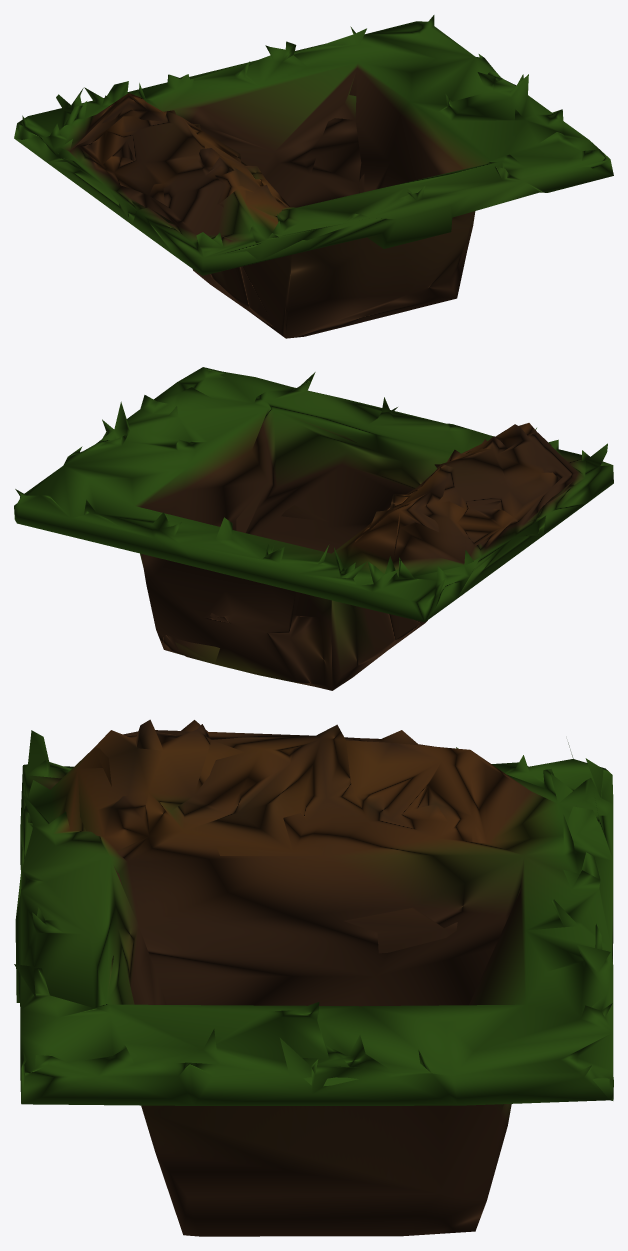
File: gen3d-open-grave-lod1.glb
3 renders of one model, top to bottom at view 1: azimuth 30°, elevation 25°; view 2: azimuth 150°, elevation 25°; view 3: azimuth 270°, elevation 25°, orthographic. The views are drawn at different scales.
Visible parts, largest first — view 1: part_0; view 2: part_0; view 3: part_0.
Part boxes in pixels (x1,y1,x2,y2): part_0: (14, 15, 613, 338); part_0: (14, 367, 613, 690); part_0: (14, 719, 613, 1236).
Size of the model in its own units: 2.07 by 0.9888 by 1.63.
